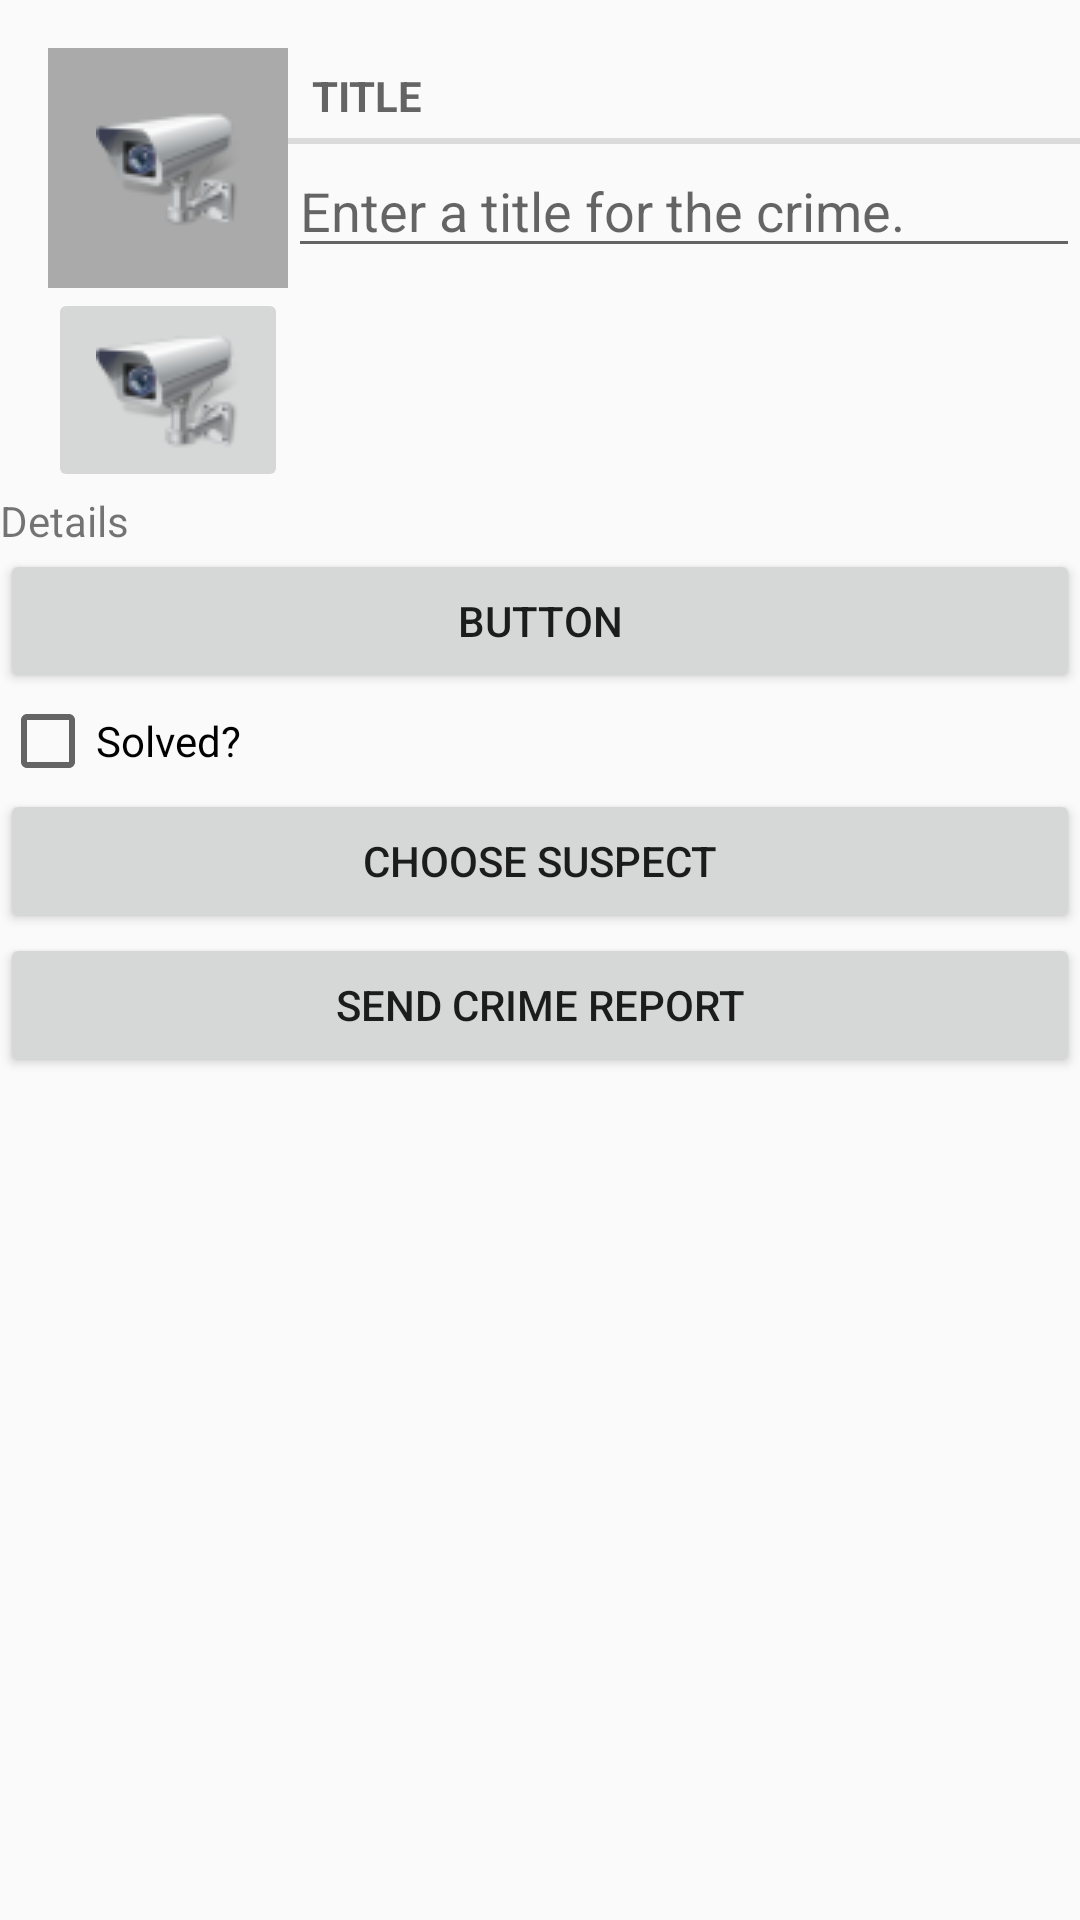

Screen size 1080 × 1920. Icon name, then its center in pixels as point (x, y):
cam: point (168, 168), point (168, 390)
